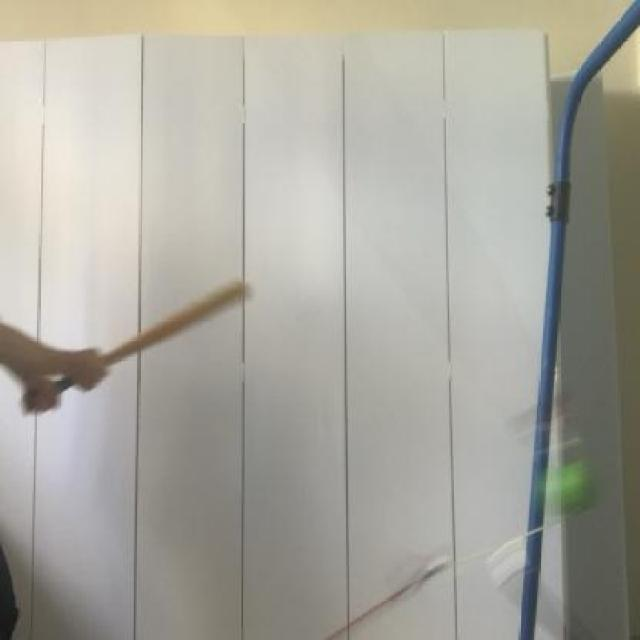baseball: (533, 427, 609, 522)
